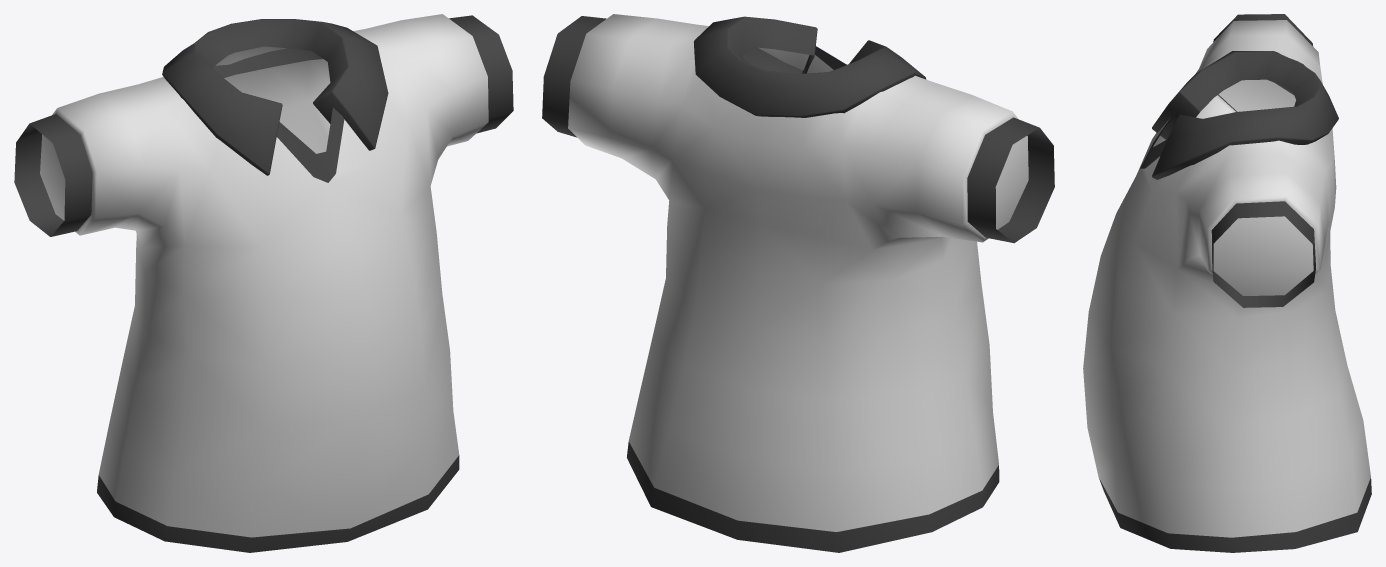
The model's file is Outerwear_White_005.glb.
3 renders of one model, left to right at view 1: azimuth 30°, elevation 25°; view 2: azimuth 150°, elevation 25°; view 3: azimuth 270°, elevation 25°, orthographic. The views are drawn at different scales.
Parts seen in each view (by area): view 1: Outerwear_White_005; view 2: Outerwear_White_005; view 3: Outerwear_White_005.
Part boxes in pixels (left/top/right/bottom): Outerwear_White_005: left=14, top=14, right=513, bottom=552; Outerwear_White_005: left=542, top=14, right=1054, bottom=552; Outerwear_White_005: left=1083, top=14, right=1371, bottom=552.
Bounding box in the file's own units: 0.6893 × 0.6487 × 0.41.
Materials: 1 (1 with a texture image).
